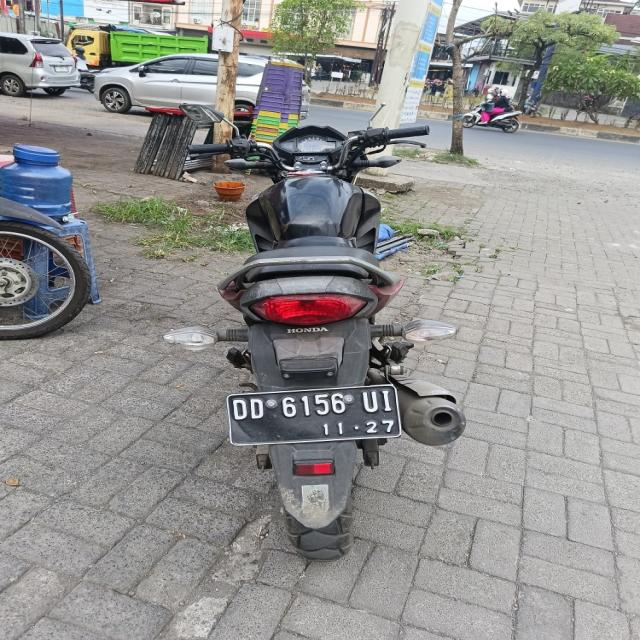plates: (230, 382, 412, 448)
